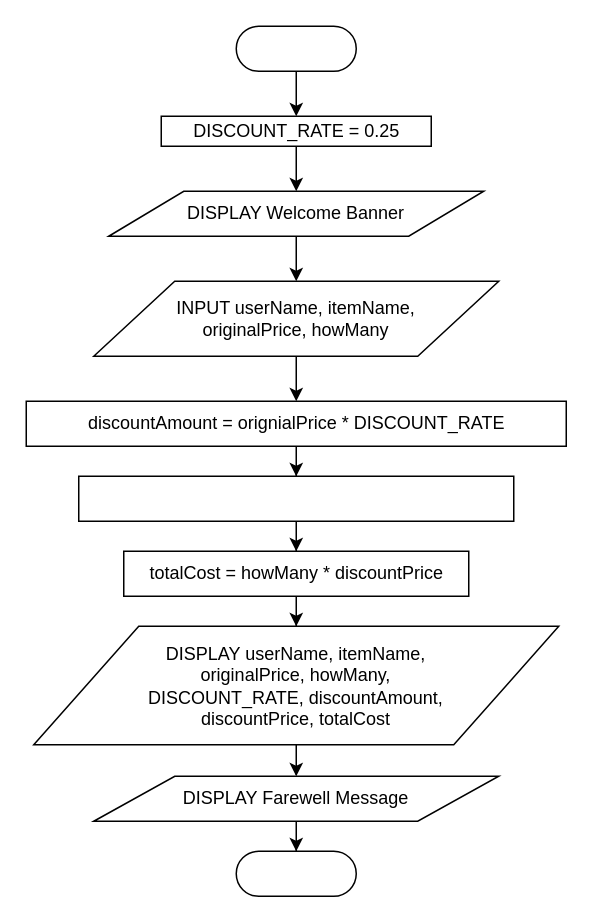
Image size: 593x923. Some labels were removed from this diagram. Each missing label, with the centre of its shape:
"discountPrice = originalPrice - discountAmount" goes at point (295, 498).
"START" goes at point (295, 48).
"STOP" goes at point (295, 873).
